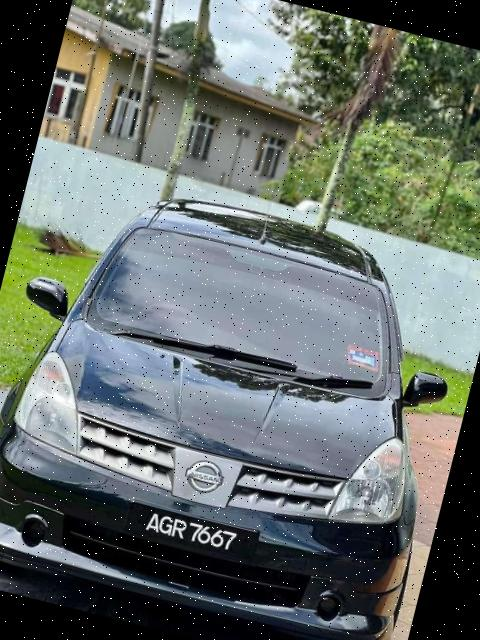License_Plate: (124, 498, 262, 570)
car: (1, 157, 480, 640)
